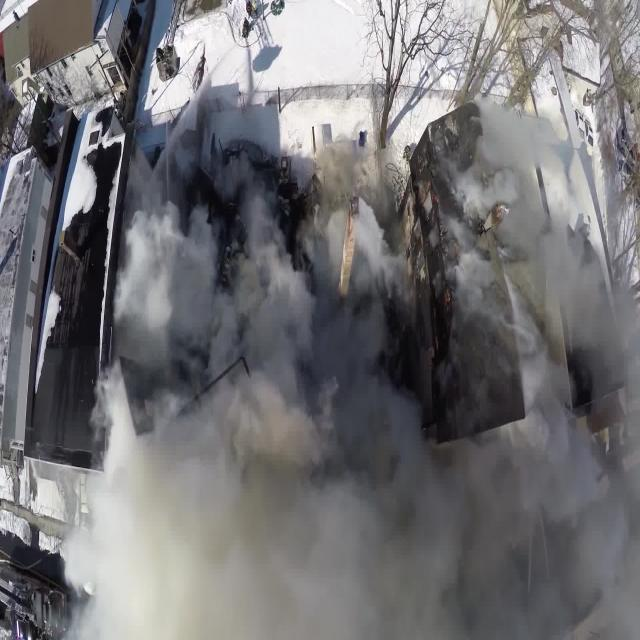Smoke: (70, 95, 640, 640)
